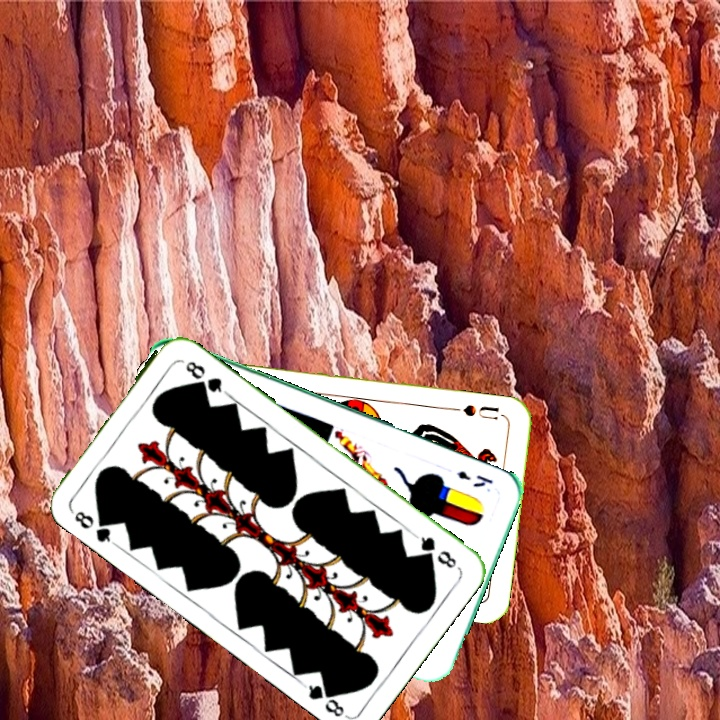EK: (453, 466, 496, 490)
G8: (410, 530, 459, 571), (70, 507, 117, 547)
SU: (459, 400, 501, 423)
